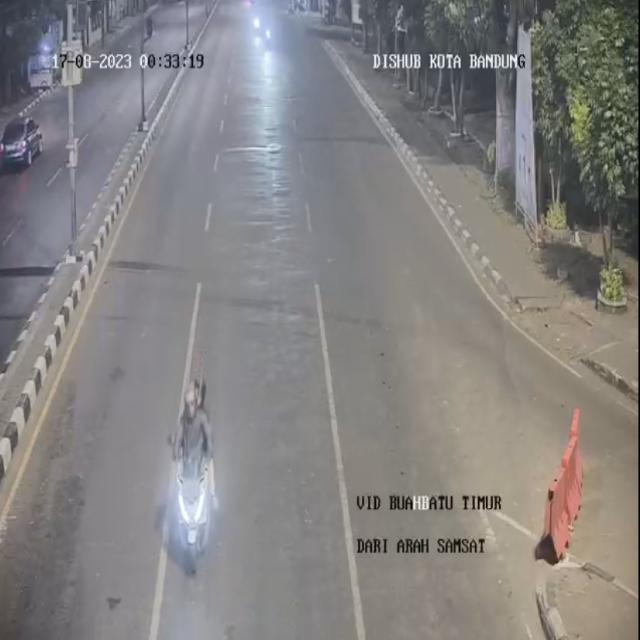motorcycle: (160, 375, 226, 577)
